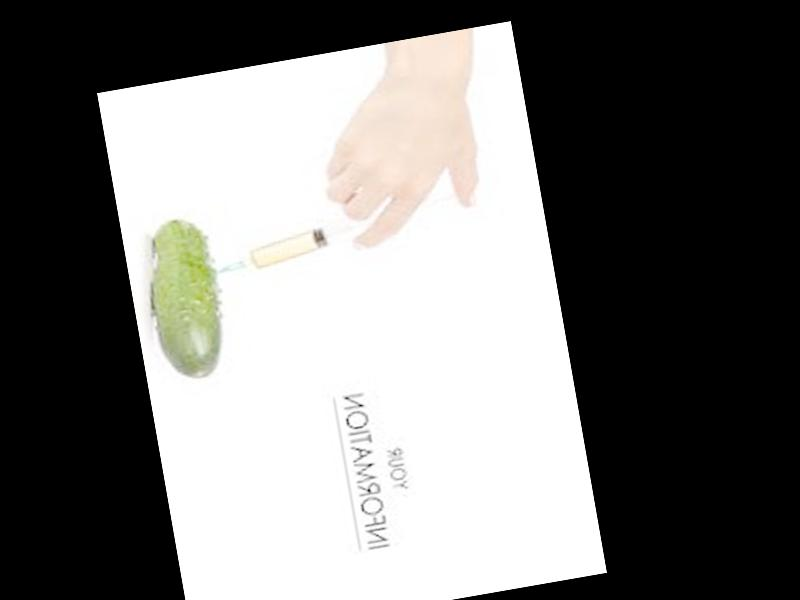Cucumber: (141, 212, 233, 383)
